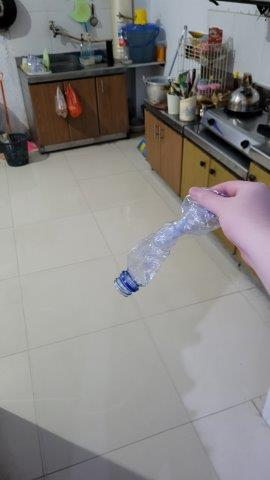botolplastik: (106, 189, 222, 297)
